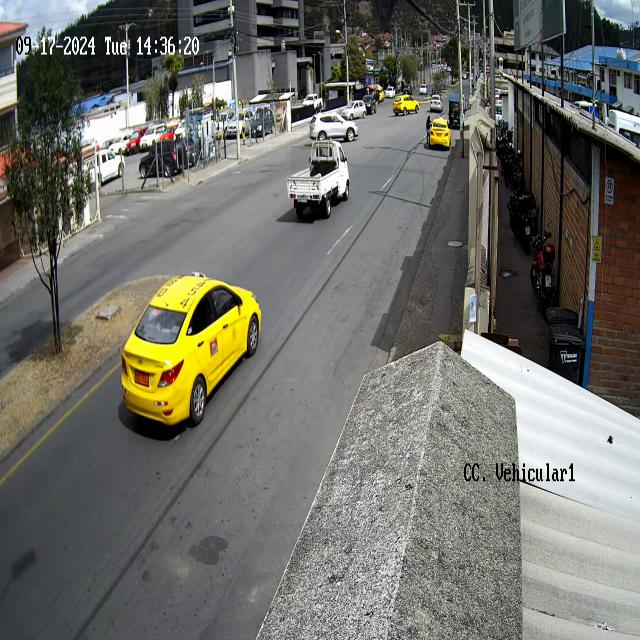SED: (120, 274, 263, 428), (430, 122, 450, 150)
SUV: (310, 111, 360, 143)
TRUCK: (287, 140, 350, 220)
